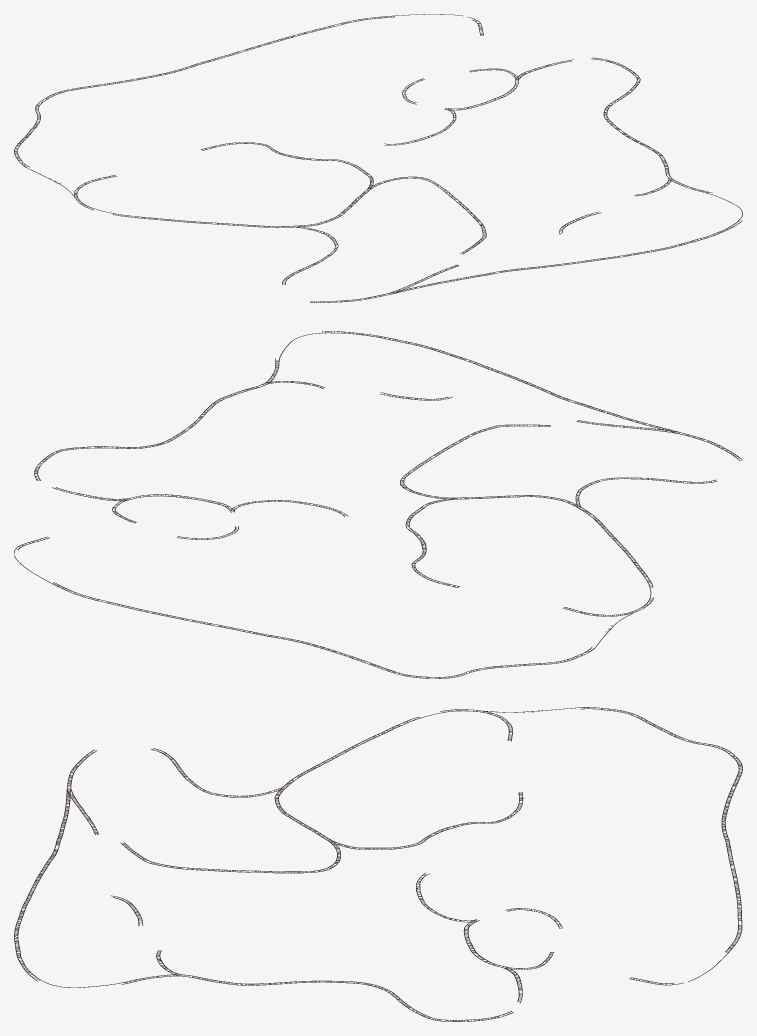
Rendered from guidao.FBX.
The picture shows the model from 3 angles, top to bottom: view 1: azimuth 30°, elevation 25°; view 2: azimuth 150°, elevation 25°; view 3: azimuth 270°, elevation 25°; orthographic projection. The views are drawn at different scales.
Parts seen in each view (by area): view 1: guidao; view 2: guidao; view 3: guidao.
Part boxes in pixels (x1,y1,x2,y2): guidao: (14, 14, 742, 302); guidao: (14, 331, 742, 678); guidao: (14, 707, 742, 1021).
Size of the model in its own units: 34854 by 13.73 by 34137.
